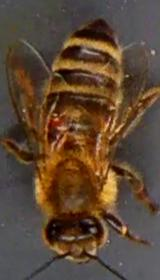varroa_mite: (44, 105, 68, 134)
